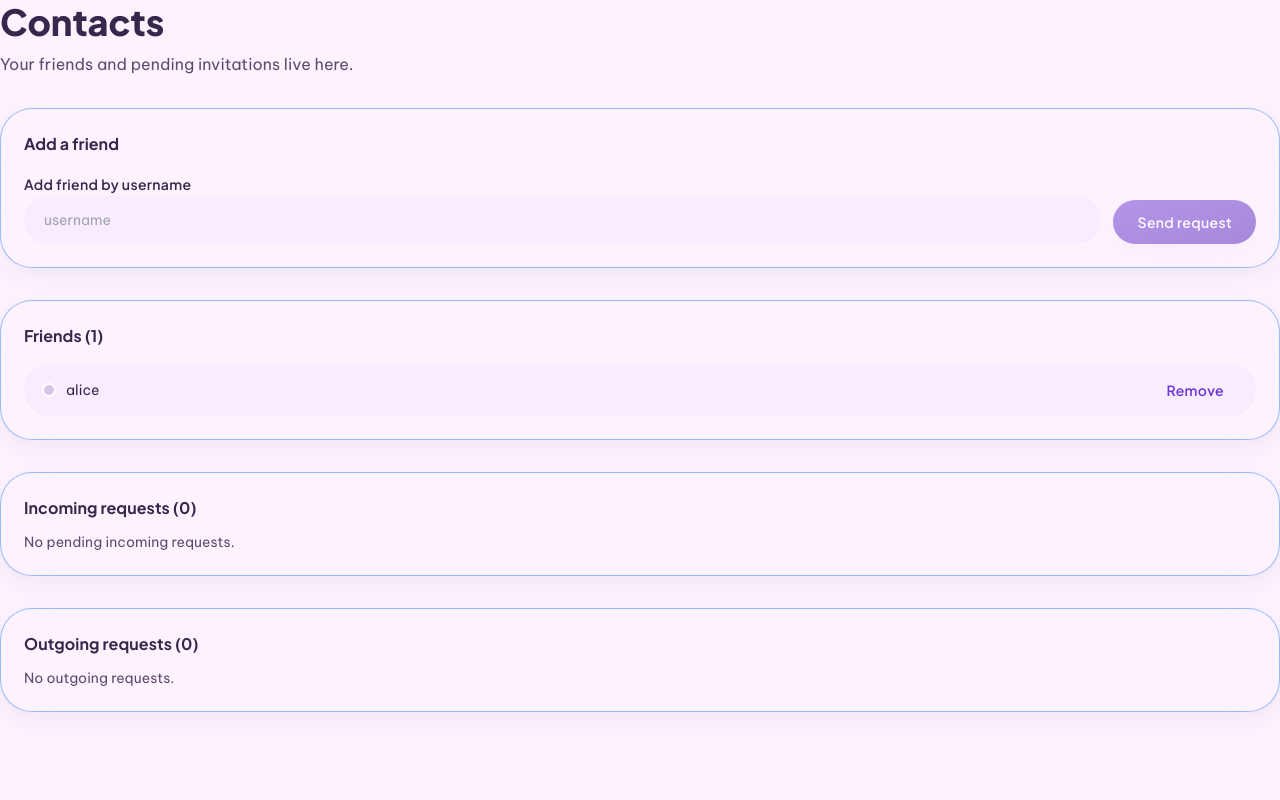
it: <ContactsRoute /> (/contacts) › opens UserPopover when a friend name is clicked and exposes Block action
Expected: the text "alice" is shown, [66,380,99,400]
What coordinates should you click on to do the following:
click the button with test id "user-popover-trigger"
I would click on:
 (72, 390)
Its box is [40,376,103,404].
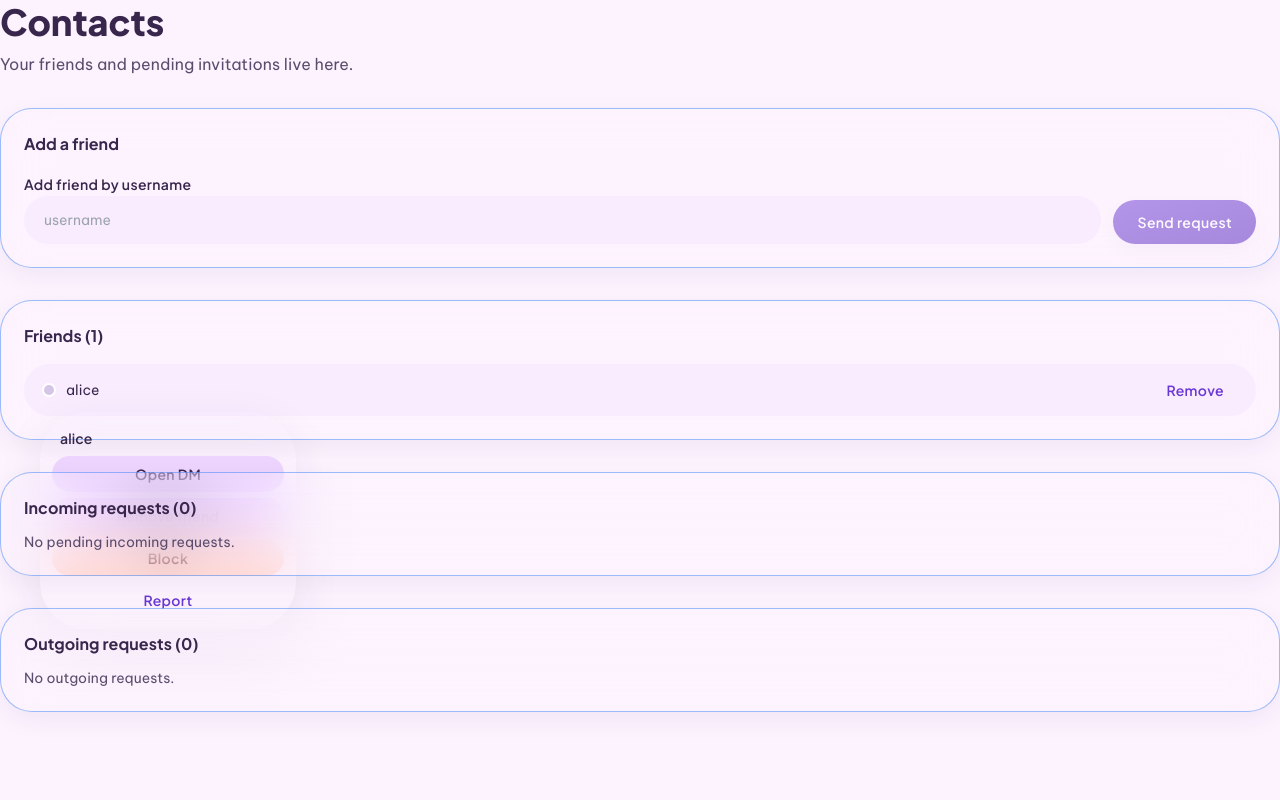
Expected: the dialog with test id "user-popover" is shown, [40,412,296,630]
Expected: the button with test id "user-popover-action-open-dm" is shown, [52,456,284,492]
Expected: the button with test id "user-popover-action-remove-friend" is shown, [52,498,284,534]
